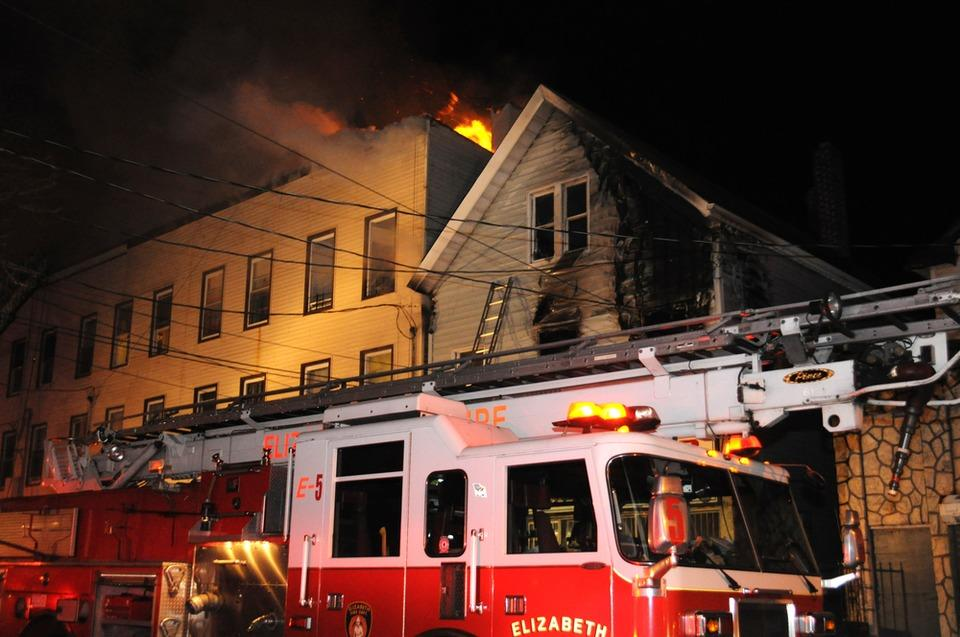Fire: (443, 92, 499, 150)
